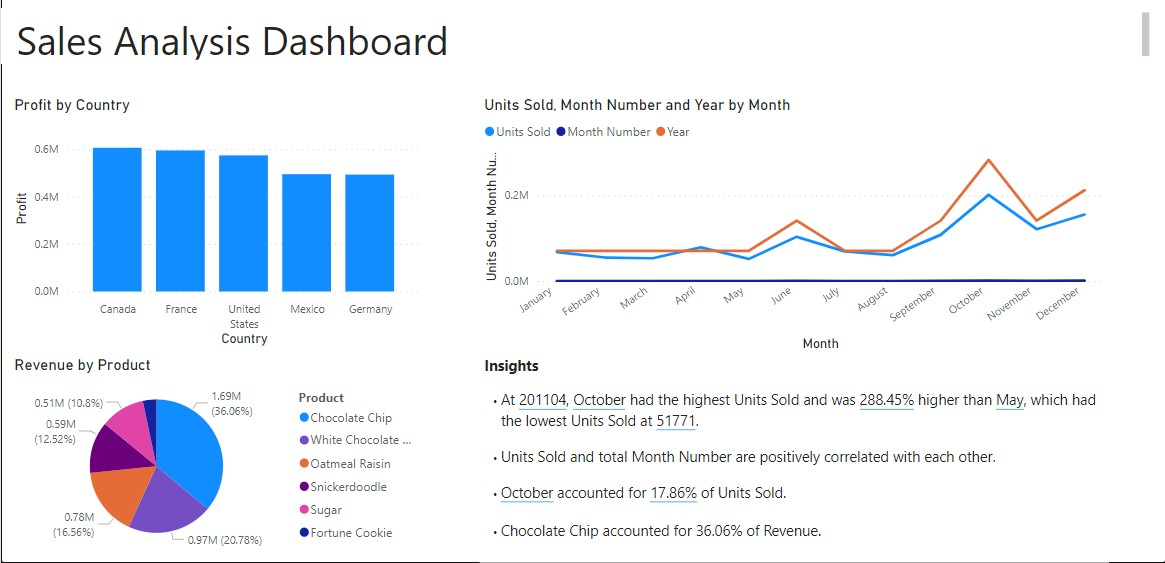

The dashboard page shown, as its layout file describes it:
{"tool":"powerbi","page":{"name":"Page 1","canvas":[1280,720],"ordinal":0},"visuals":[{"type":"textbox","box":[10,0,280,280],"z":0},{"type":"textbox","box":[0,109.9,1266.3,61.8],"z":1000},{"type":"clusteredColumnChart","fields":{"Y":["Sum(financials.Profit)"],"Category":["financials.Country"]},"box":[9.6,206,457.3,280.2],"z":2000},{"type":"lineChart","fields":{"Category":["financials.Date.Variation.Date Hierarchy.Month"],"Y":["Sum(financials.Units Sold)","Sum(financials.Month Number)","Sum(financials.Year)"]},"box":[526,206,690.8,285.7],"z":3000},{"type":"pieChart","fields":{"Category":["financials.Product"],"Y":["Sum(financials.Revenue)"]},"box":[9.6,491.7,457.3,223.9],"z":4000},{"type":"textbox","box":[526,523.3,690.8,196.4],"z":5000},{"type":"textbox","box":[526,486.2,740.3,37.1],"z":6000}]}

Visuals, with their boxes on the page's 1280x720 design canvas (x1, y1, x2, y2). These are canvas units, not pixel positions in the 1165x563 screenshot, which may show the page scaled, cropped or inside an application window:
textbox: (10,0,290,280)
textbox: (0,110,1266,172)
clusteredColumnChart - Sum(financials.Profit) x financials.Country: (10,206,467,486)
lineChart - financials.Date.Variation.Date Hierarchy.Month x Sum(financials.Units Sold): (526,206,1217,492)
pieChart - financials.Product x Sum(financials.Revenue): (10,492,467,716)
textbox: (526,523,1217,720)
textbox: (526,486,1266,523)
